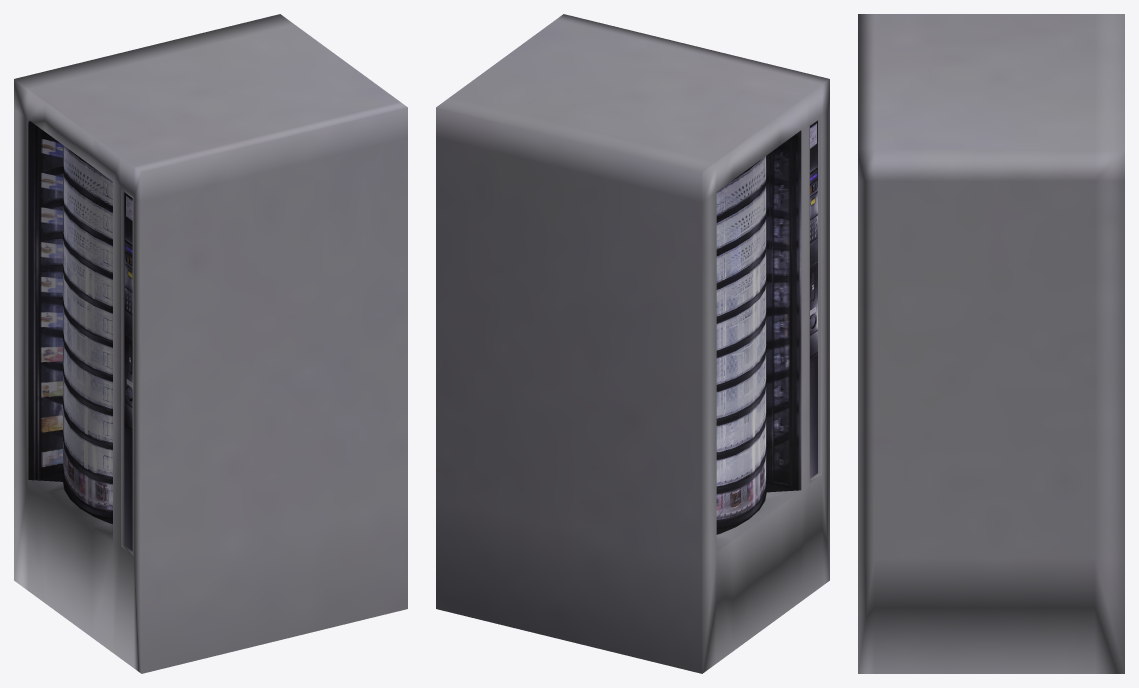
File: MachineSandiwch.fbx
The picture shows the model from 3 angles, left to right: view 1: azimuth 30°, elevation 25°; view 2: azimuth 150°, elevation 25°; view 3: azimuth 270°, elevation 25°; orthographic projection. The views are drawn at different scales.
Parts seen in each view (by area): view 1: MachineSandwish; view 2: MachineSandwish; view 3: MachineSandwish.
Part boxes in pixels (x1=…): MachineSandwish: x1=14, y1=14, x2=407, y2=673; MachineSandwish: x1=436, y1=14, x2=829, y2=673; MachineSandwish: x1=858, y1=14, x2=1124, y2=673.
Bounding box in the file's own units: 107 × 193 × 88.88.
